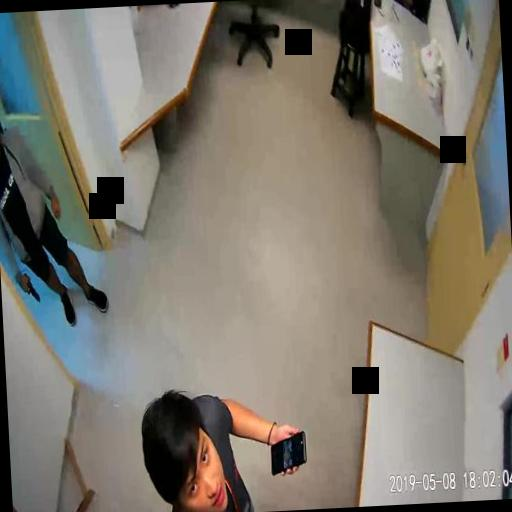Handgun: (22, 270, 39, 302)
